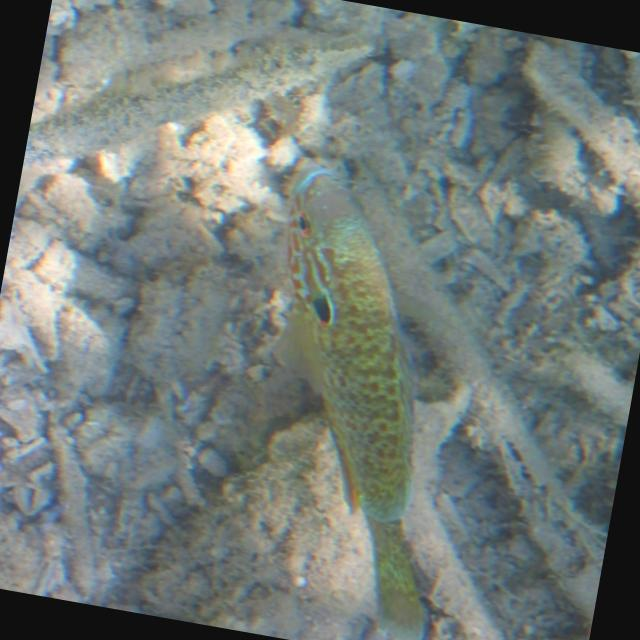Gunes Levregi: (204, 152, 507, 640)
